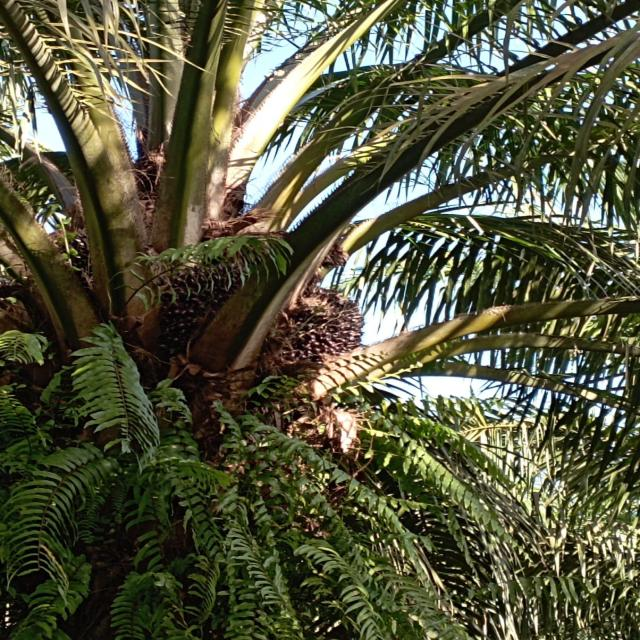fraksi 00: (275, 276, 389, 372)
